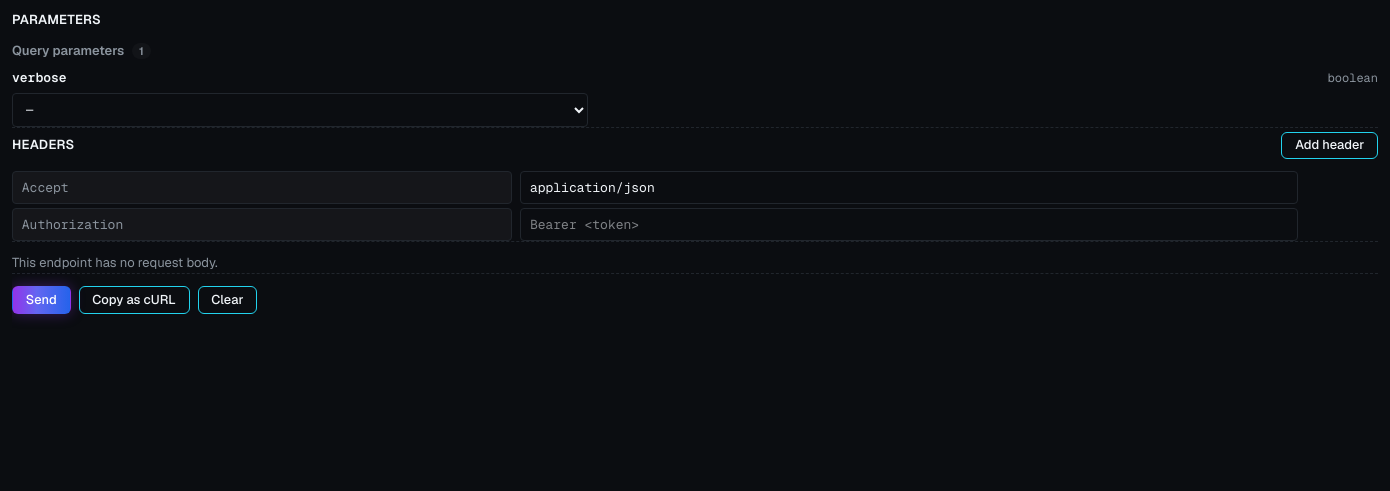
Test: TryItOutForm › sends through /api/proxy and shows the response panel
This screenshot has width=1390, height=491.
Click the button "Send": [41, 300] box [12, 286, 70, 314]
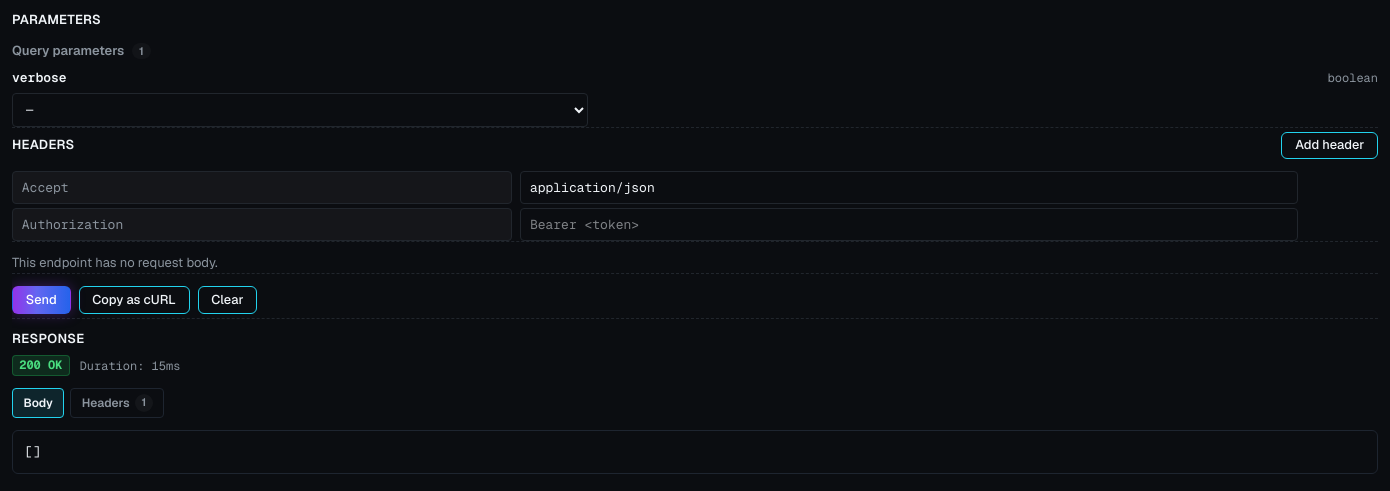
Result: the element "Response" is shown at [12, 318, 1378, 474]
Result: the text "200 OK" is shown at [12, 356, 70, 376]
Result: the text "Duration: 15ms" is shown at [80, 357, 180, 375]
